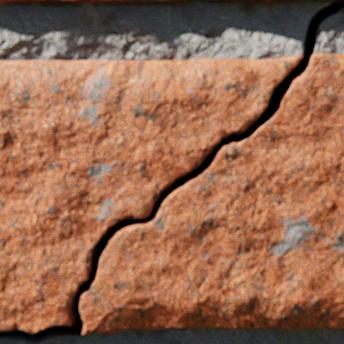brick: (0, 0, 305, 5)
broken_brick: (0, 56, 302, 332), (81, 54, 343, 333)
crack: (0, 0, 343, 343)
